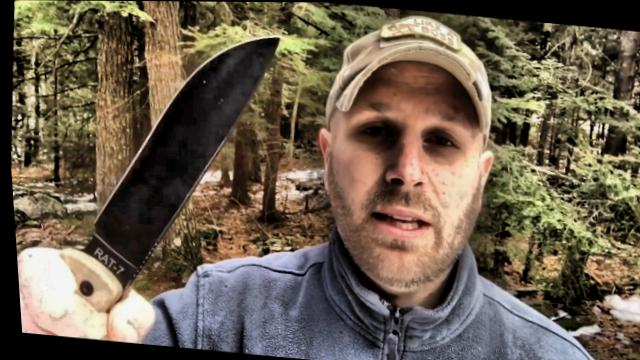knife: (0, 3, 304, 356)
